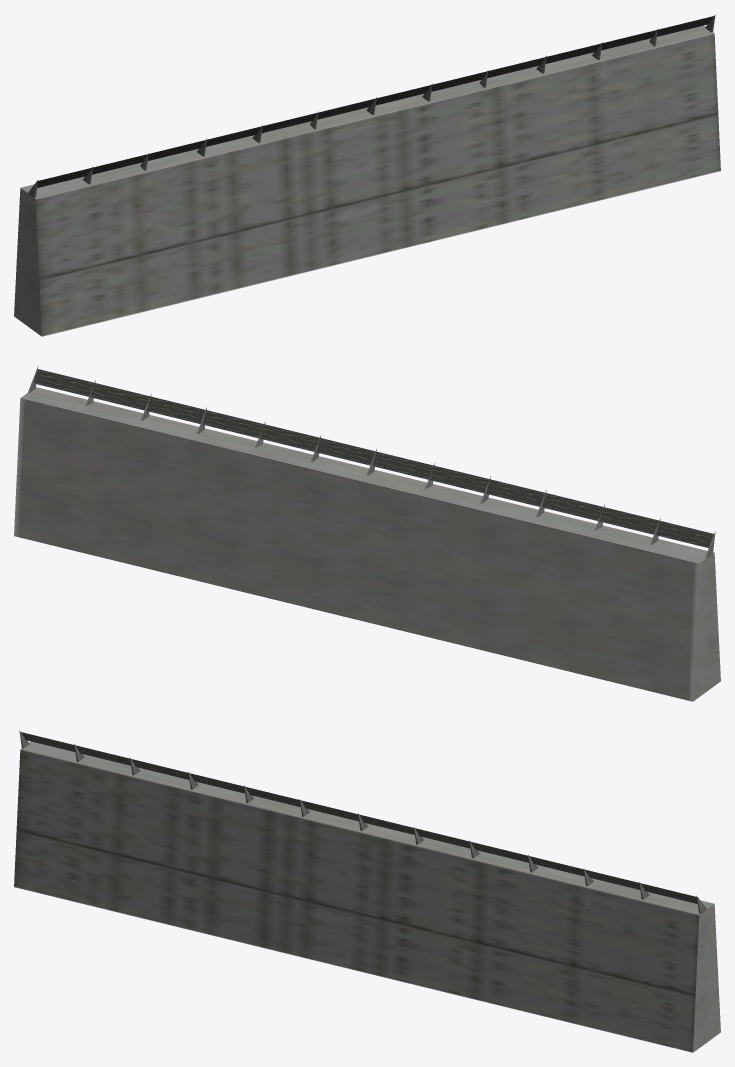
File: mun_all_military_wall_strong_impl_32_s01_l2.fbx
3 renders of one model, top to bottom at view 1: azimuth 30°, elevation 25°; view 2: azimuth 150°, elevation 25°; view 3: azimuth 330°, elevation 25°, orthographic.
Visible parts, largest first — view 1: mesh_node; view 2: mesh_node; view 3: mesh_node.
Part boxes in pixels (left/top/right/bottom): mesh_node: left=14, top=14, right=720, bottom=336; mesh_node: left=14, top=366, right=720, bottom=701; mesh_node: left=14, top=730, right=720, bottom=1052.
Bounding box in the file's own units: 32 × 6.93 × 2.29.
2 materials, 2 textured.
